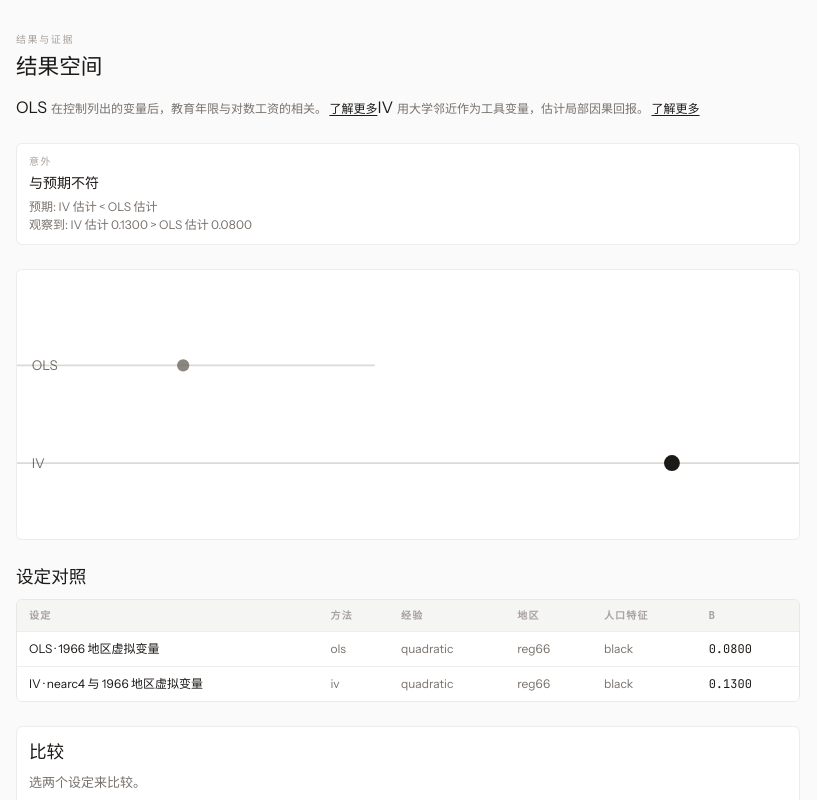
it: EvidenceLab › C1 Visual order: Results space and Compare precede Claim Ledger; Compare expands claim
// Selecting two specifications automatically expands Claim Ledger
Click the row with test id "evidence-matrix-ols_region_dummies" at (408, 649), box [17,631,799,666]
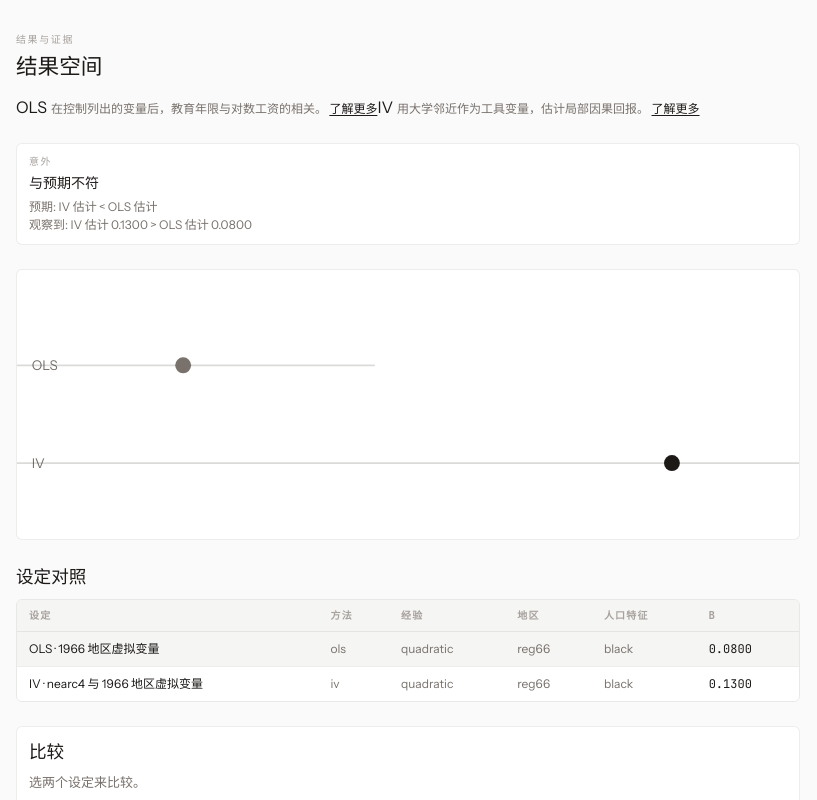
Click the row with test id "evidence-matrix-iv_region_dummies" at (408, 683), box [17,666,799,701]
(page scrolled)
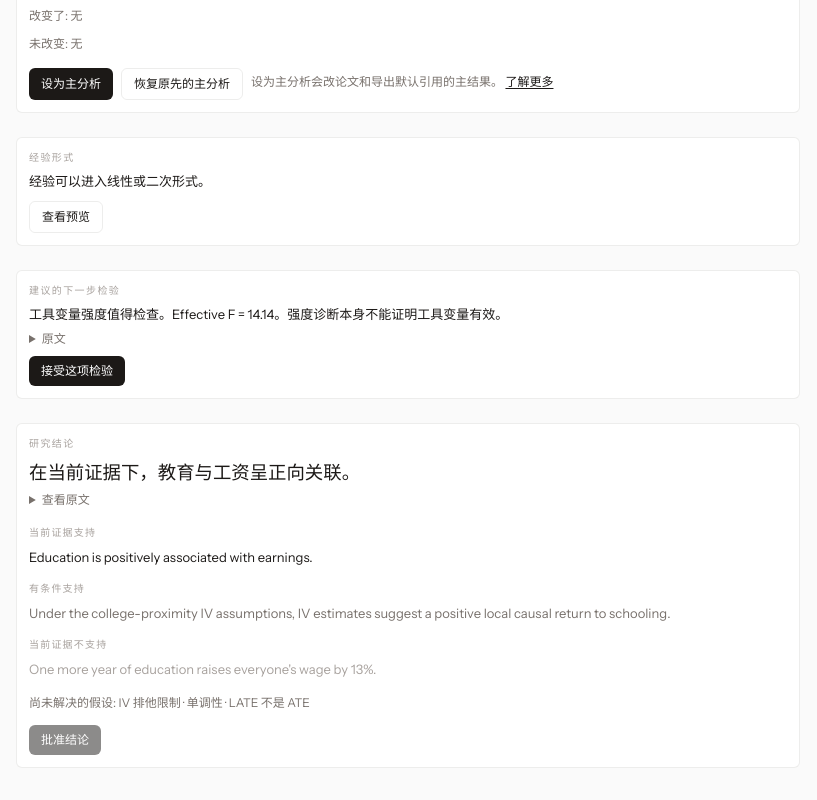
expect the element with test id "claim-ledger" is shown: met, box [16,423,800,768]
